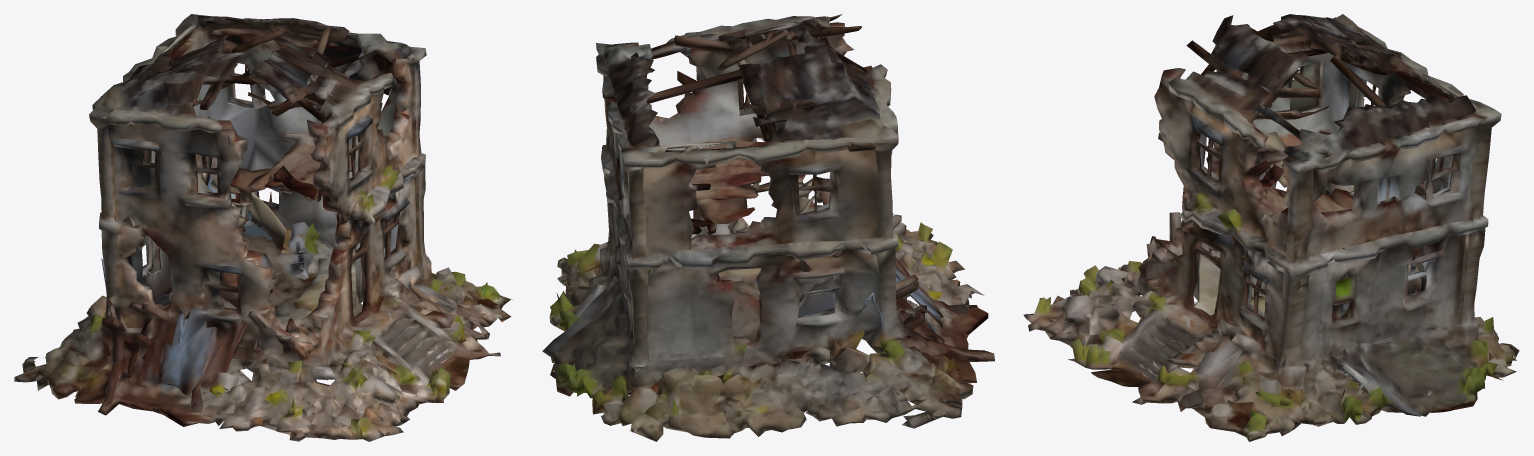
File: building-1_20k.glb
3 views of the same model, side by side, from view 1: azimuth 30°, elevation 25°; view 2: azimuth 150°, elevation 25°; view 3: azimuth 270°, elevation 25° (orthographic). The views are drawn at different scales.
Visible parts, largest first — view 1: RETOPO; view 2: RETOPO; view 3: RETOPO.
Part boxes in pixels (x1,y1,x2,y2): RETOPO: (14, 14, 512, 441); RETOPO: (542, 14, 994, 441); RETOPO: (1023, 14, 1519, 441).
Bounding box in the file's own units: 0.9059 × 0.6252 × 0.8831.
1 material, 1 textured.
